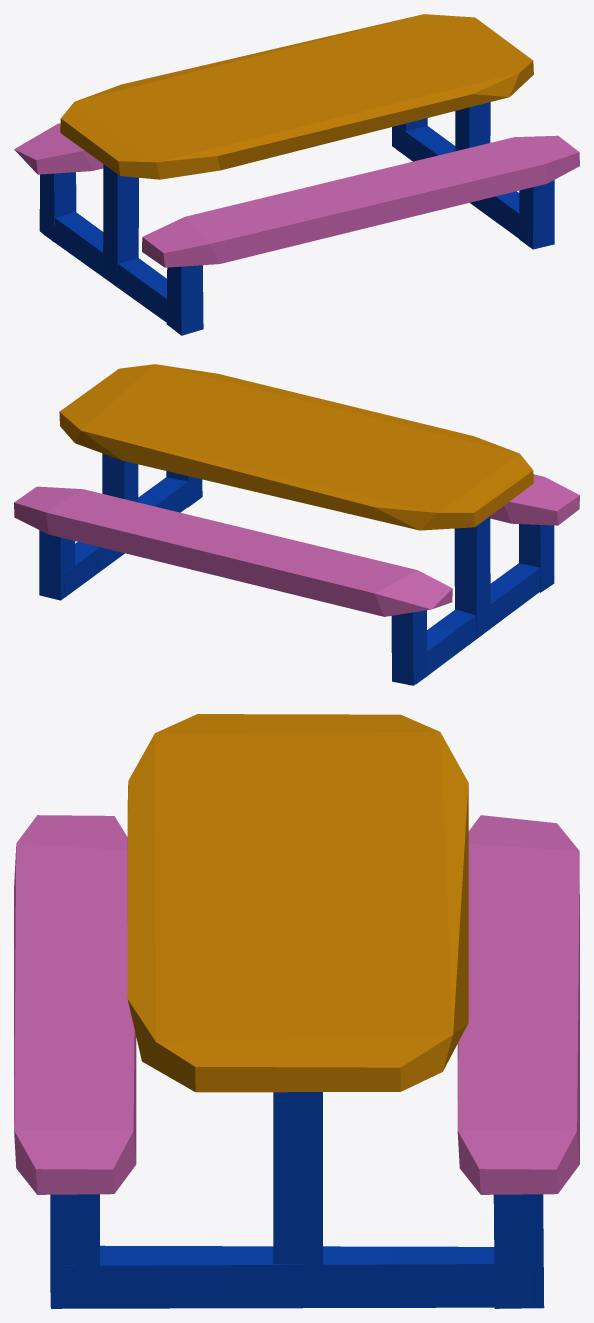
Rendered from Child Bench 1 Fractured.fbx.
3 views of the same model, one above another, from view 1: azimuth 30°, elevation 25°; view 2: azimuth 150°, elevation 25°; view 3: azimuth 270°, elevation 25° (orthographic). The views are drawn at different scales.
Parts seen in each view (by area): view 1: Child_Bench_01_Breaking, Child_Bench_01_Breaking.001; view 2: Child_Bench_01_Breaking, Child_Bench_01_Breaking.001; view 3: Child_Bench_01_Breaking, Child_Bench_01_Breaking.001.
Boxes of the visible parts, left/top/right/bottom form: Child_Bench_01_Breaking: left=60, top=14, right=579, bottom=335; Child_Bench_01_Breaking.001: left=14, top=118, right=454, bottom=260; Child_Bench_01_Breaking: left=59, top=364, right=579, bottom=656; Child_Bench_01_Breaking.001: left=14, top=486, right=454, bottom=685; Child_Bench_01_Breaking: left=14, top=714, right=468, bottom=1308; Child_Bench_01_Breaking.001: left=398, top=815, right=579, bottom=1308.
Bounding box in the file's own units: 124 × 42.83 × 83.27.
